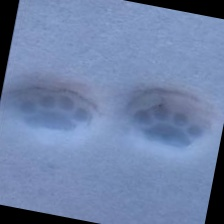cat: (125, 93, 213, 157), (11, 85, 98, 143)
